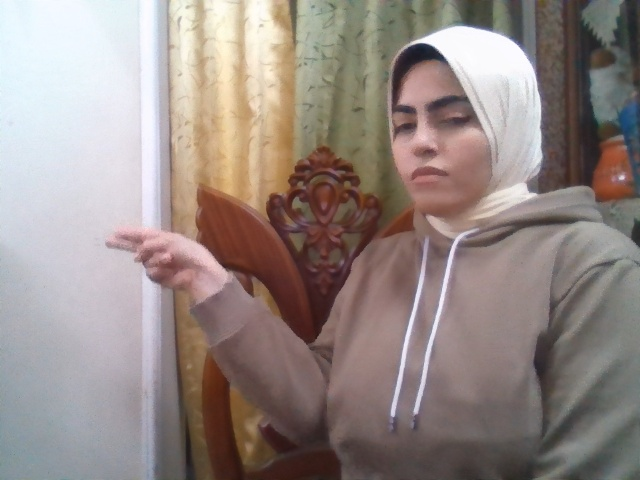H: (105, 227, 218, 290)
